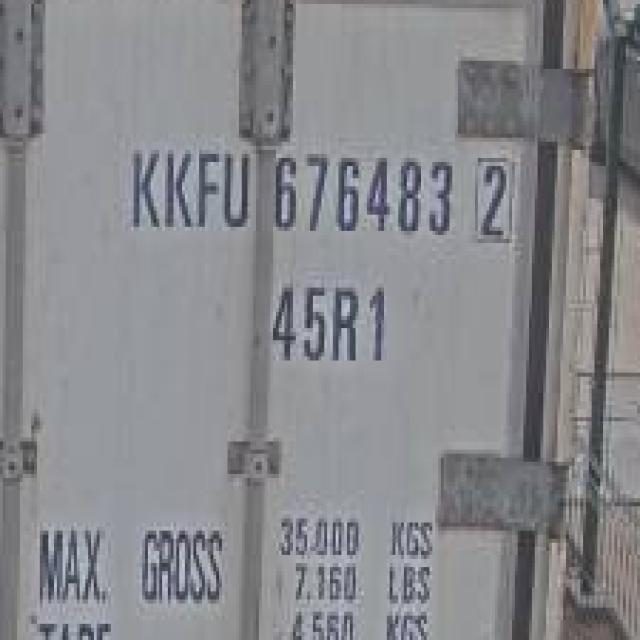dv: (466, 148, 518, 244)
owner: (126, 136, 254, 241)
serial: (270, 145, 456, 244)
size: (268, 272, 395, 368)
